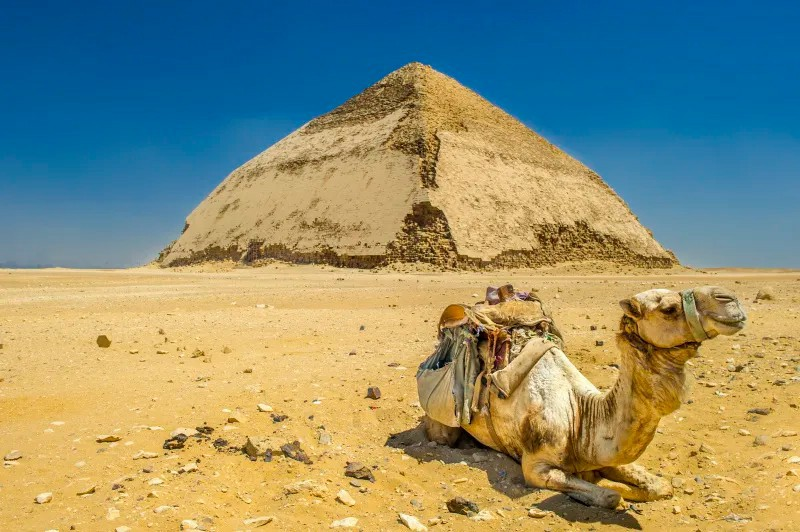Pyramid: (148, 63, 679, 272)
